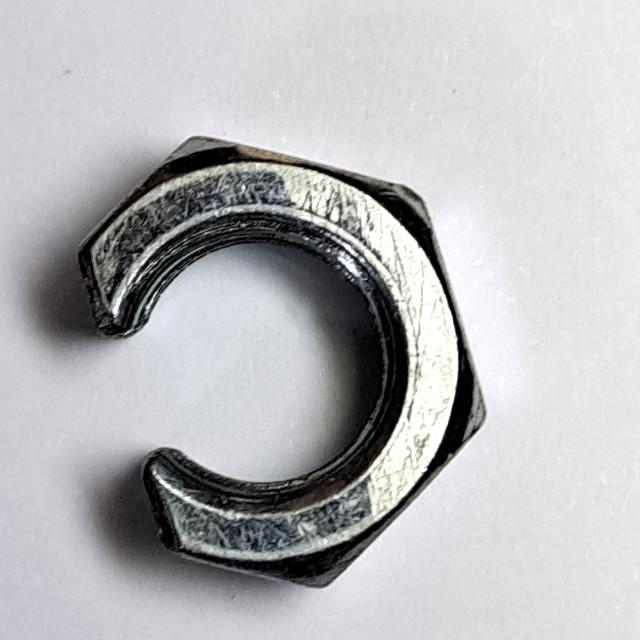Fracture: (64, 117, 500, 604)
